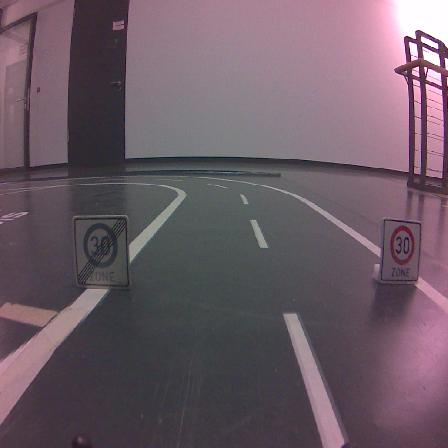30_ZONE_BEGIN: (379, 218, 422, 283)
30_ZONE_END: (72, 215, 130, 288)
